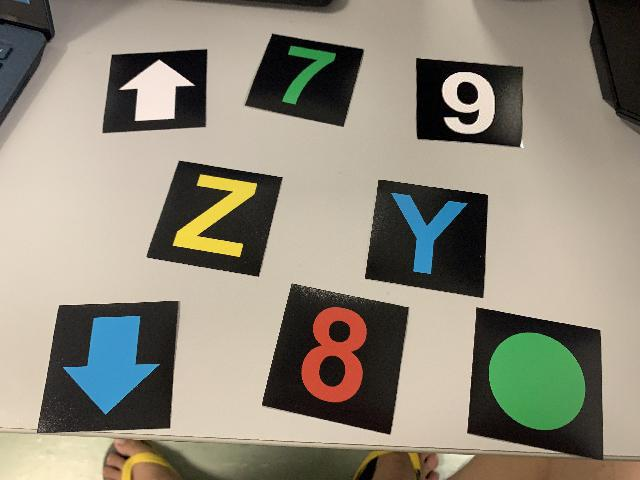7: (258, 31, 354, 119)
8: (260, 279, 410, 435)
9: (419, 59, 521, 148)
down: (35, 300, 181, 432)
go: (470, 308, 603, 458)
up: (105, 49, 208, 131)
y: (370, 179, 488, 295)
z: (147, 160, 284, 280)
